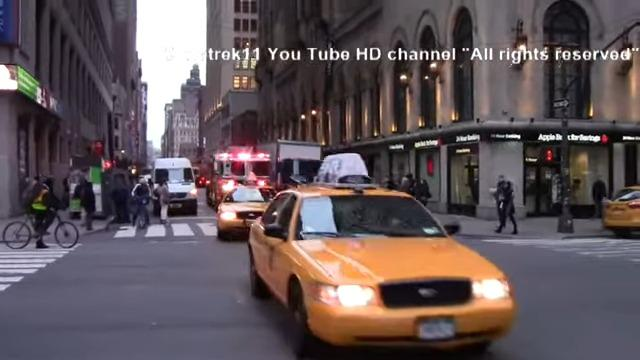Fire-engine: (205, 144, 272, 210)
